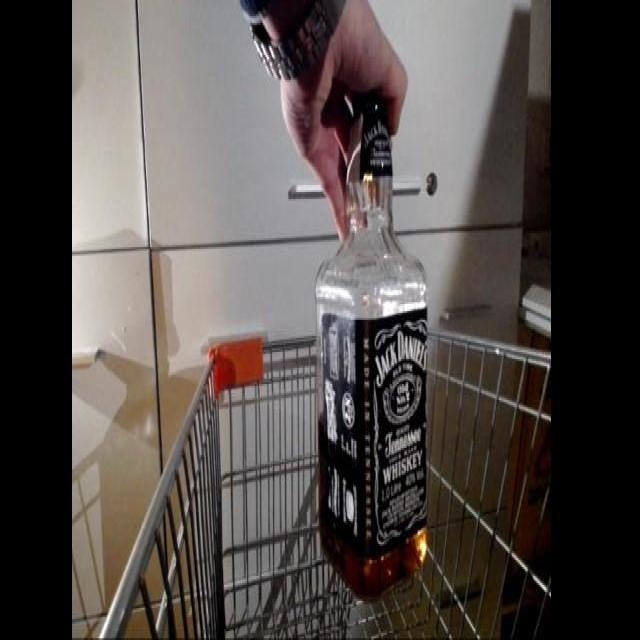Jack Daniels: (303, 90, 450, 610)
